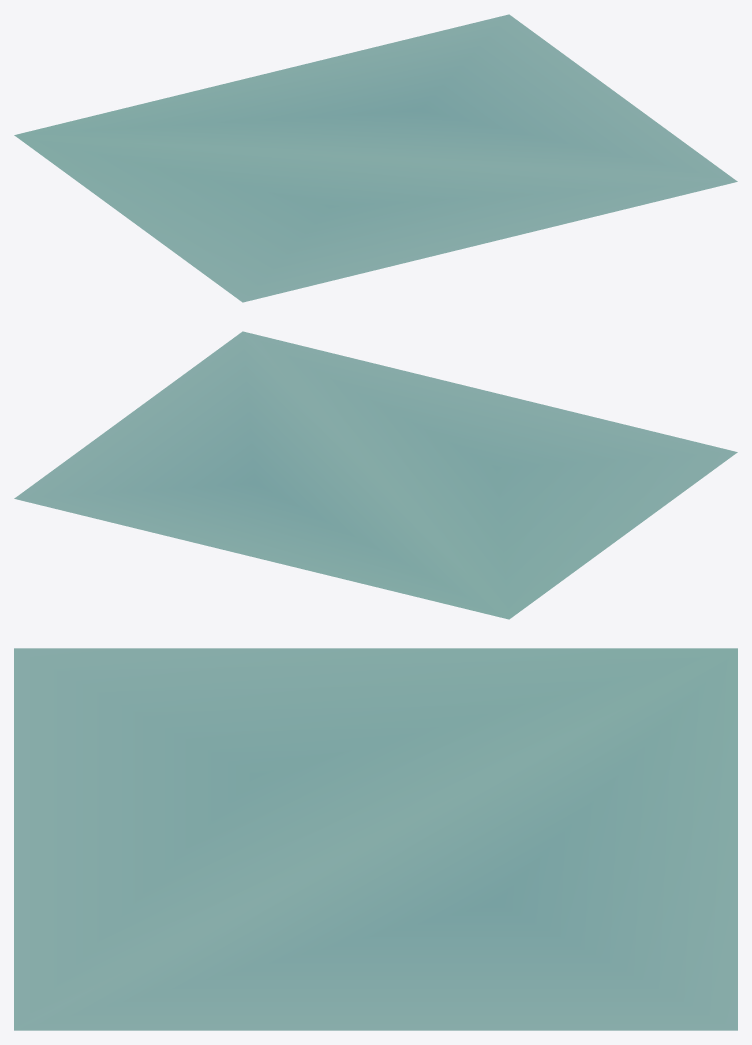
Rendered from water-25-1.glb.
The picture shows the model from 3 angles, top to bottom: view 1: azimuth 30°, elevation 25°; view 2: azimuth 150°, elevation 25°; view 3: azimuth 270°, elevation 25°; orthographic projection. The views are drawn at different scales.
Bounding box in the file's own units: 15 × 0 × 12.
